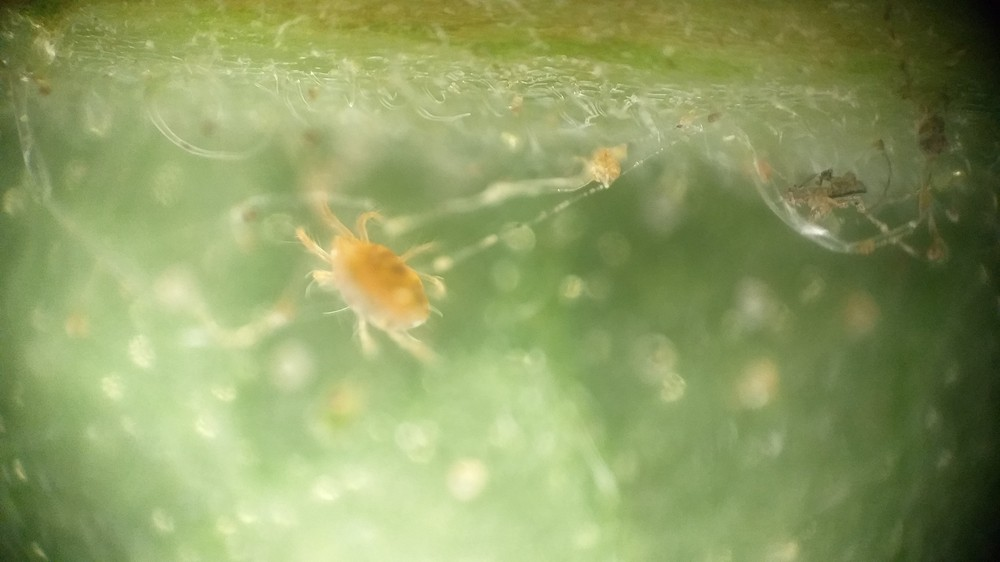Aracnido Rojo: (270, 173, 477, 368)
